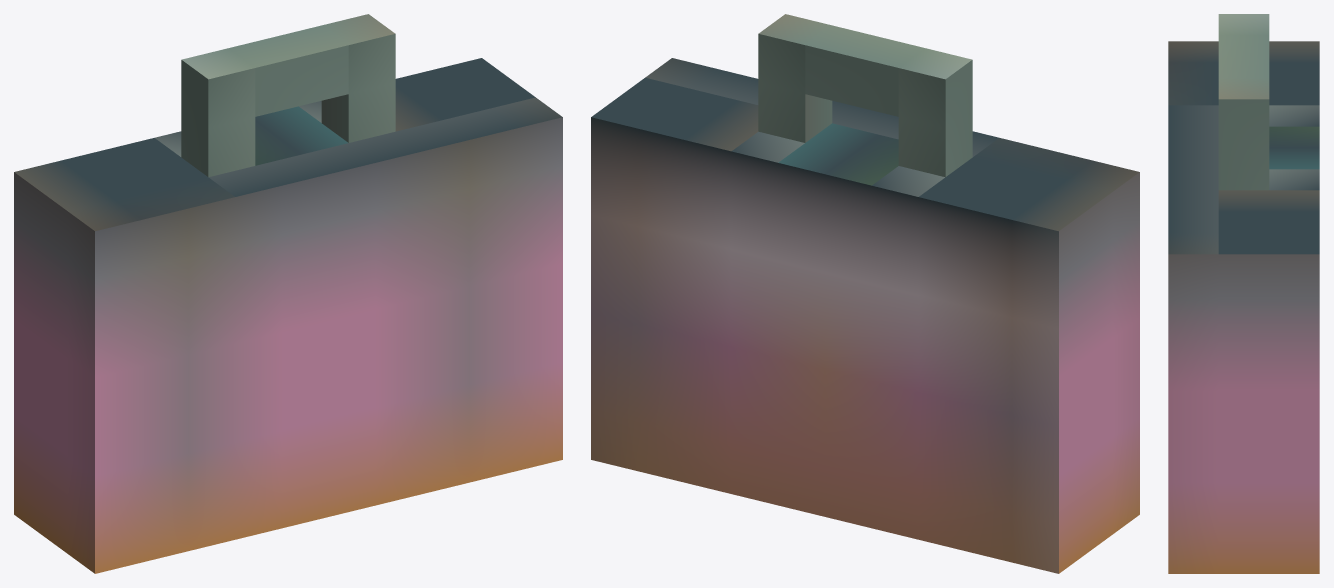
Rendered from BriefcasePink_00.obj.
3 views of the same model, side by side, from view 1: azimuth 30°, elevation 25°; view 2: azimuth 150°, elevation 25°; view 3: azimuth 270°, elevation 25° (orthographic). The views are drawn at different scales.
Parts seen in each view (by area): view 1: BriefcasePink_00; view 2: BriefcasePink_00; view 3: BriefcasePink_00.
Boxes of the visible parts, x1,y1,x2,y2 form: BriefcasePink_00: [14, 14, 562, 573]; BriefcasePink_00: [591, 14, 1139, 573]; BriefcasePink_00: [1168, 14, 1319, 573].
Size of the model in its own units: 0.5 by 0.45 by 0.15.
